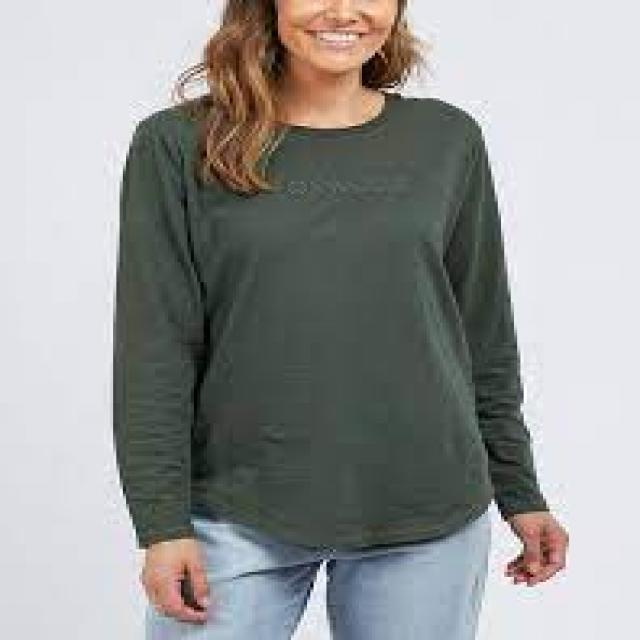plain: (20, 67, 626, 566)
